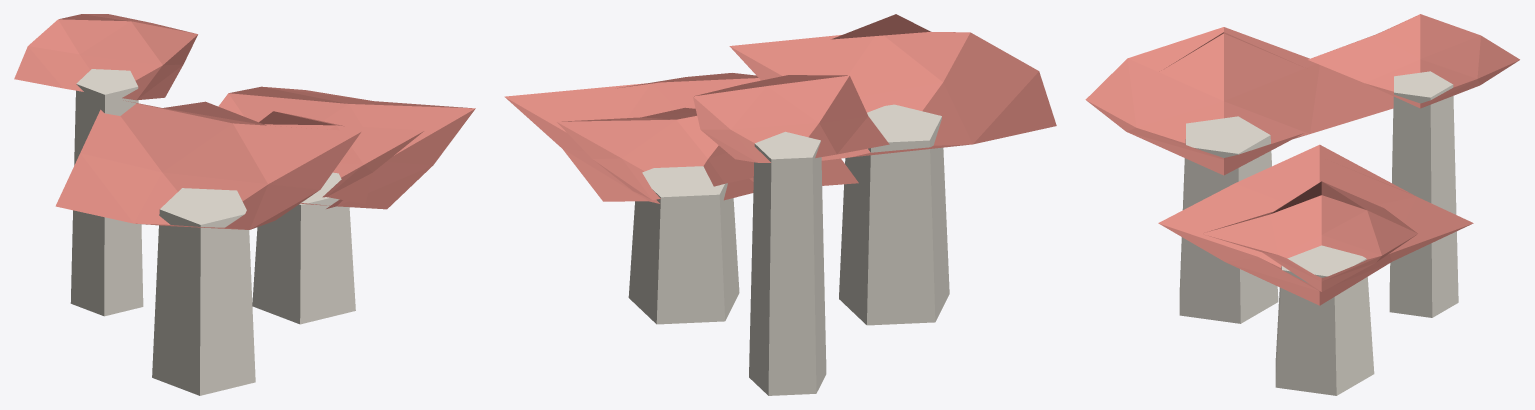
Rendered from mushroom_v18.glb.
3 renders of one model, left to right at view 1: azimuth 30°, elevation 25°; view 2: azimuth 150°, elevation 25°; view 3: azimuth 270°, elevation 25°, orthographic. The views are drawn at different scales.
Parts seen in each view (by area): view 1: lod0; view 2: lod0; view 3: lod0.
Boxes of the visible parts, left/top/right/bottom form: lod0: left=14, top=14, right=475, bottom=395; lod0: left=504, top=14, right=1056, bottom=395; lod0: left=1085, top=14, right=1519, bottom=395.
Size of what is drawn, in the model's own units: 0.7605 by 0.4439 by 0.6143.
